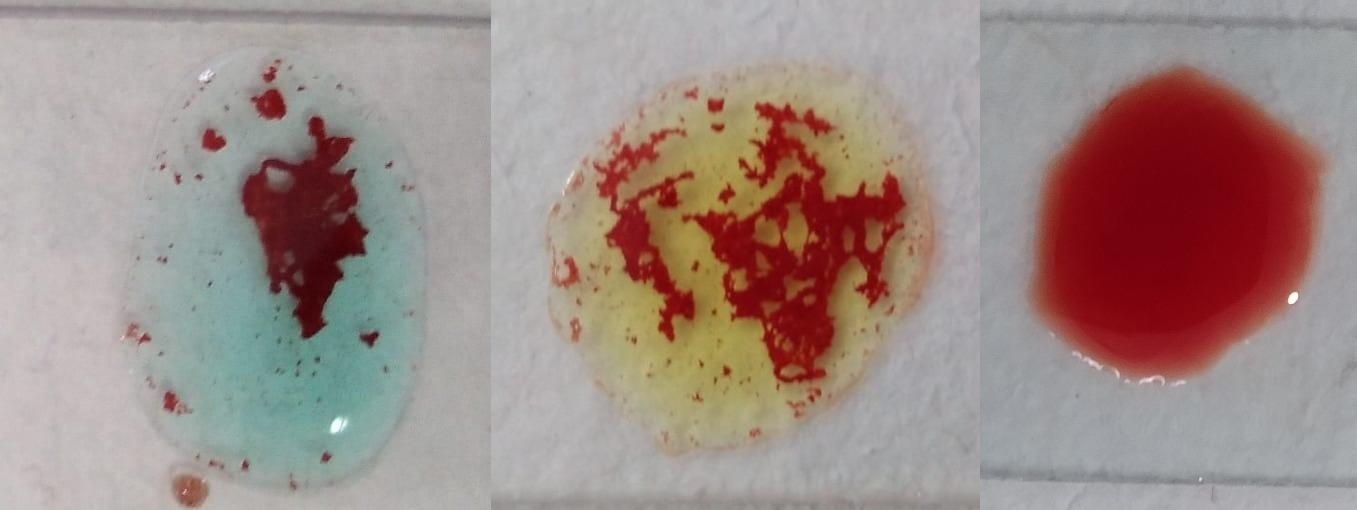A: (125, 37, 426, 487)
B: (540, 60, 936, 452)
